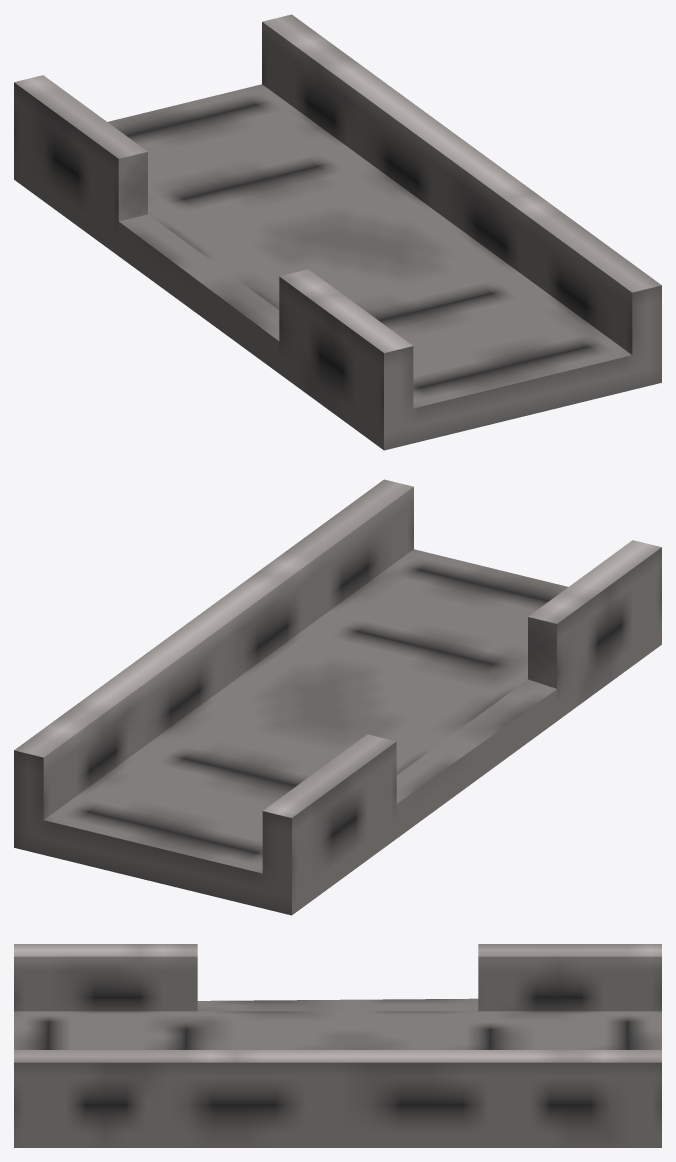
Rendered from obj_cableRail_branch.fbx.
The picture shows the model from 3 angles, top to bottom: view 1: azimuth 30°, elevation 25°; view 2: azimuth 150°, elevation 25°; view 3: azimuth 270°, elevation 25°; orthographic projection. The views are drawn at different scales.
Visible parts, largest first — view 1: obj_cableRail_branch; view 2: obj_cableRail_branch; view 3: obj_cableRail_branch.
Part boxes in pixels (bbox=[...]): obj_cableRail_branch: bbox=[14, 14, 661, 450]; obj_cableRail_branch: bbox=[14, 479, 661, 915]; obj_cableRail_branch: bbox=[14, 944, 661, 1147].
Size of the model in its own units: 13 by 4.35 by 30.
